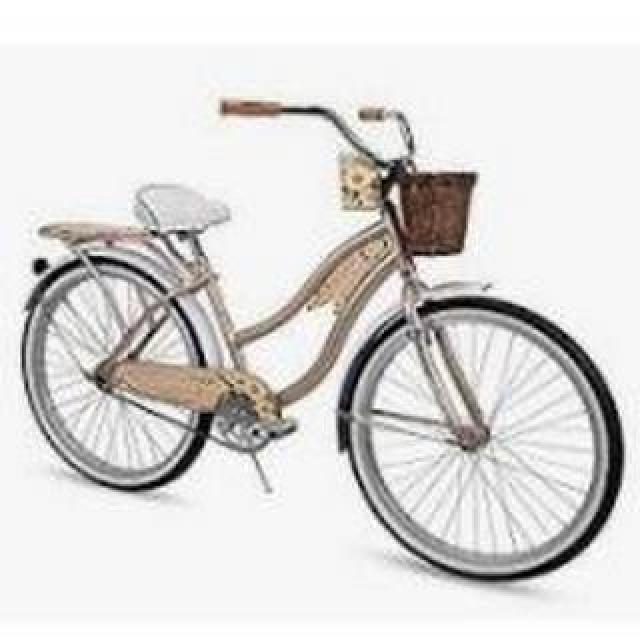Person: (16, 84, 628, 592)
